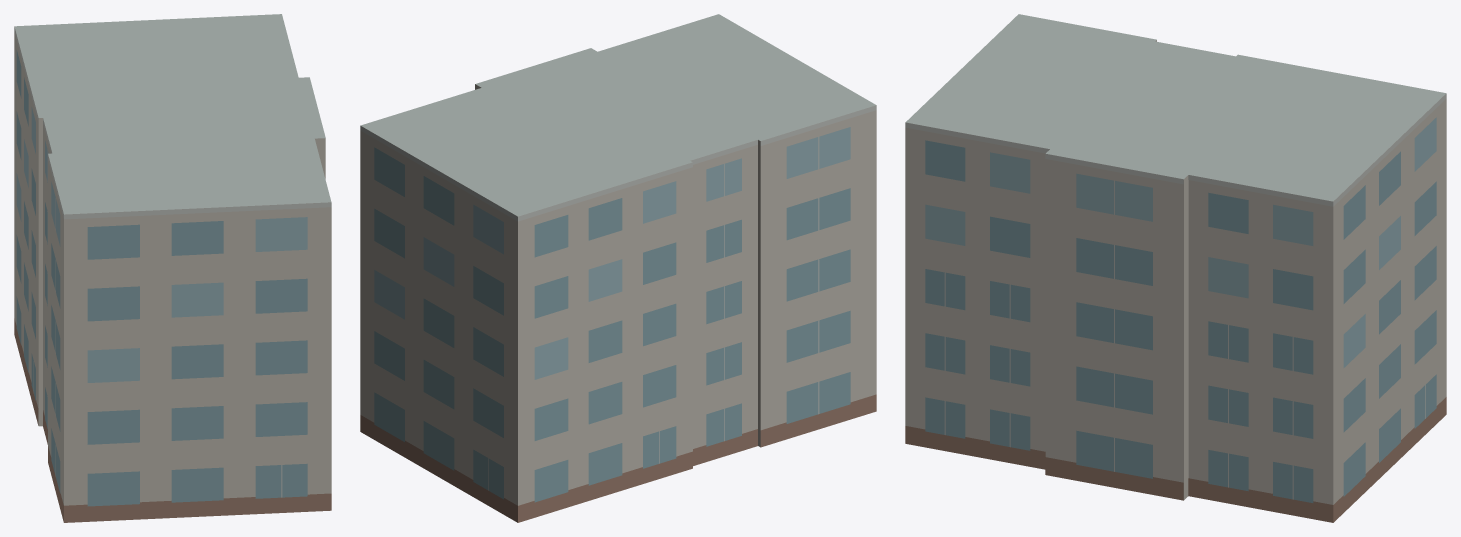
File: survey-upis-32918188.glb
The picture shows the model from 3 angles, left to right: view 1: azimuth 30°, elevation 25°; view 2: azimuth 150°, elevation 25°; view 3: azimuth 270°, elevation 25°; orthographic projection. The views are drawn at different scales.
Parts seen in each view (by area): view 1: survey-upis-32918188.tmp; view 2: survey-upis-32918188.tmp; view 3: survey-upis-32918188.tmp.
Boxes of the visible parts, box(x1,y1,x2,y2) form: survey-upis-32918188.tmp: box(14, 14, 331, 522); survey-upis-32918188.tmp: box(360, 14, 876, 522); survey-upis-32918188.tmp: box(905, 14, 1446, 522).
Size of the model in its own units: 19.04 by 15.2 by 23.21.
